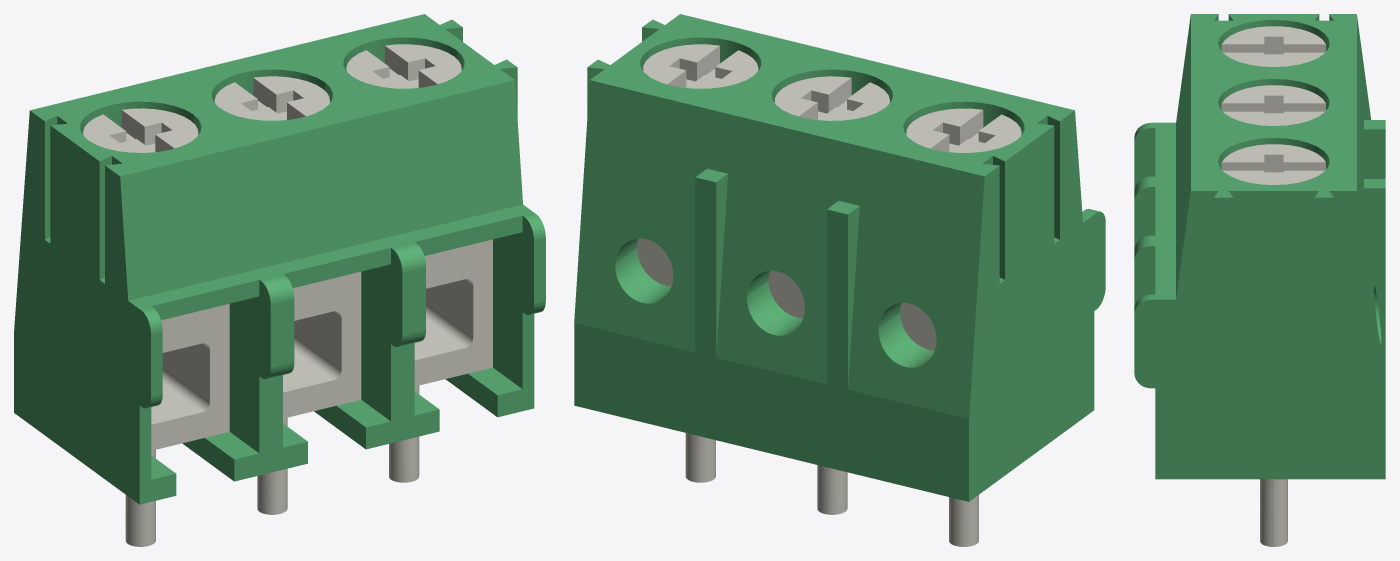
Rendered from kc-terminalblock_phoenix_pt-1_5-3-5.0-h_1x03_p5.00mm_horizontal.glb.
The picture shows the model from 3 angles, left to right: view 1: azimuth 30°, elevation 25°; view 2: azimuth 150°, elevation 25°; view 3: azimuth 270°, elevation 25°; orthographic projection. The views are drawn at different scales.
Visible parts, largest first — view 1: 0.08333333333333333_0.4166666666666667_0.16666666666666666_0, 0.6666666666666666_0.6666666666666666_0.5833333333333334_0.8; view 2: 0.08333333333333333_0.4166666666666667_0.16666666666666666_0, 0.6666666666666666_0.6666666666666666_0.5833333333333334_0.8; view 3: 0.08333333333333333_0.4166666666666667_0.16666666666666666_0, 0.6666666666666666_0.6666666666666666_0.5833333333333334_0.8.
Boxes of the visible parts, bbox=[...] form: 0.08333333333333333_0.4166666666666667_0.16666666666666666_0: bbox=[14, 14, 545, 504]; 0.6666666666666666_0.6666666666666666_0.5833333333333334_0.8: bbox=[83, 44, 492, 546]; 0.08333333333333333_0.4166666666666667_0.16666666666666666_0: bbox=[574, 14, 1105, 501]; 0.6666666666666666_0.6666666666666666_0.5833333333333334_0.8: bbox=[637, 44, 1021, 546]; 0.08333333333333333_0.4166666666666667_0.16666666666666666_0: bbox=[1134, 14, 1385, 479]; 0.6666666666666666_0.6666666666666666_0.5833333333333334_0.8: bbox=[1221, 26, 1325, 546].
Bounding box in the file's own units: 1.56 × 1.5 × 0.9001.
